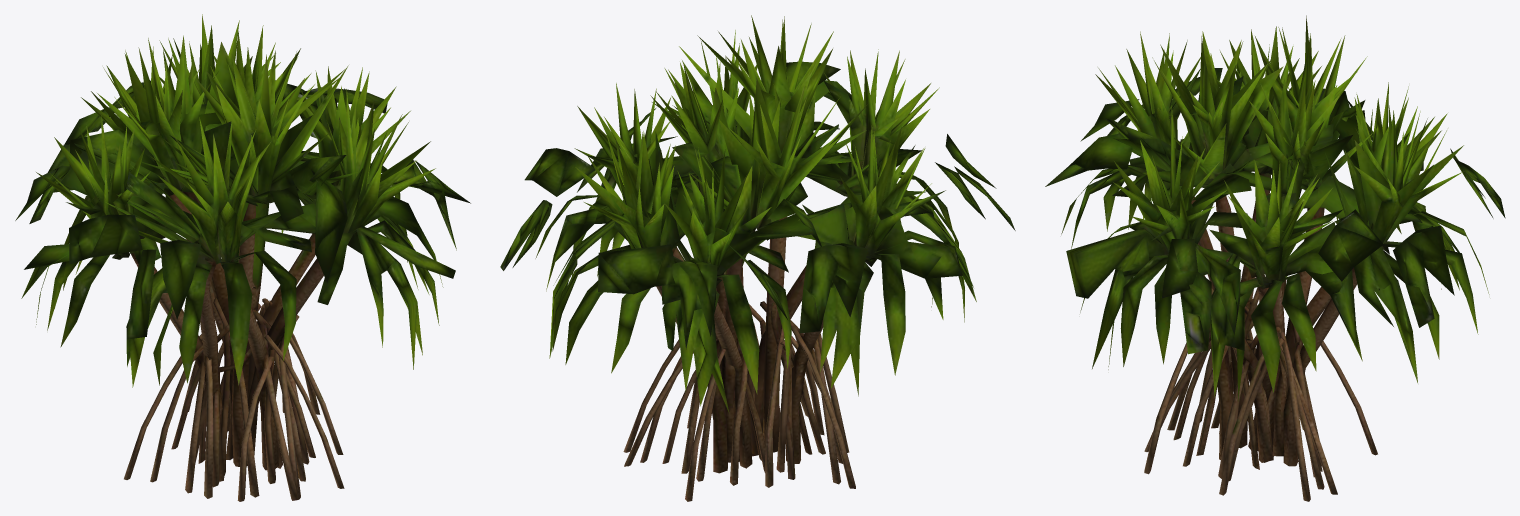
File: selected.fbx
3 views of the same model, side by side, from view 1: azimuth 30°, elevation 25°; view 2: azimuth 150°, elevation 25°; view 3: azimuth 270°, elevation 25° (orthographic). The views are drawn at different scales.
Visible parts, largest first — view 1: tripo_node_2387daa3-0512-4d1f-abfb-1e13453980f6; view 2: tripo_node_2387daa3-0512-4d1f-abfb-1e13453980f6; view 3: tripo_node_2387daa3-0512-4d1f-abfb-1e13453980f6.
Part boxes in pixels (x1,y1,x2,y2): tripo_node_2387daa3-0512-4d1f-abfb-1e13453980f6: (15,14,470,501); tripo_node_2387daa3-0512-4d1f-abfb-1e13453980f6: (500,15,1015,501); tripo_node_2387daa3-0512-4d1f-abfb-1e13453980f6: (1045,15,1505,501).
Size of the model in its own units: 0.9785 by 0.998 by 0.9902.
1 material, 1 textured.
